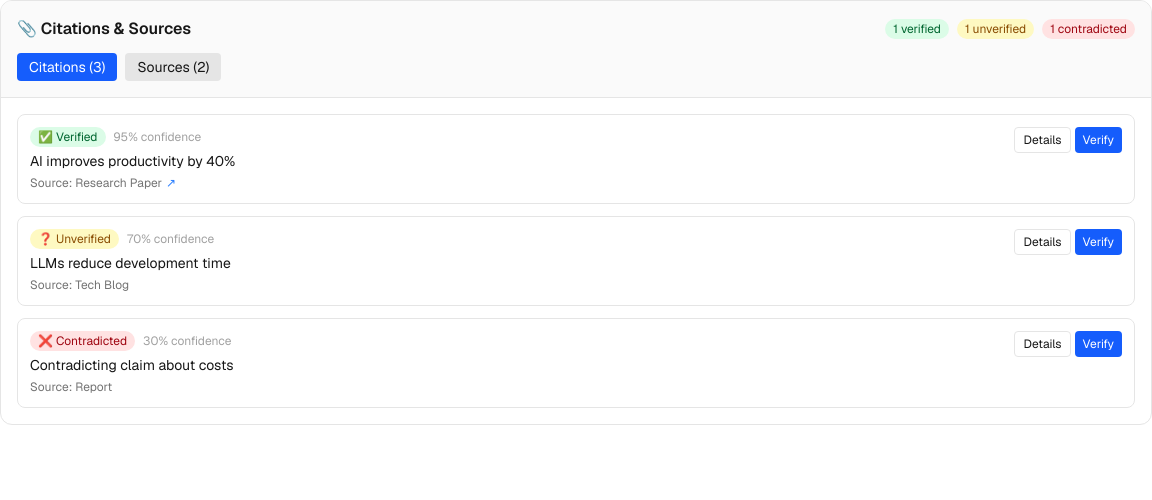
CitationPanel Component › switches to sources tab
Step 1. Click the button "Sources (2)" → (173, 67), box [125, 53, 221, 81]
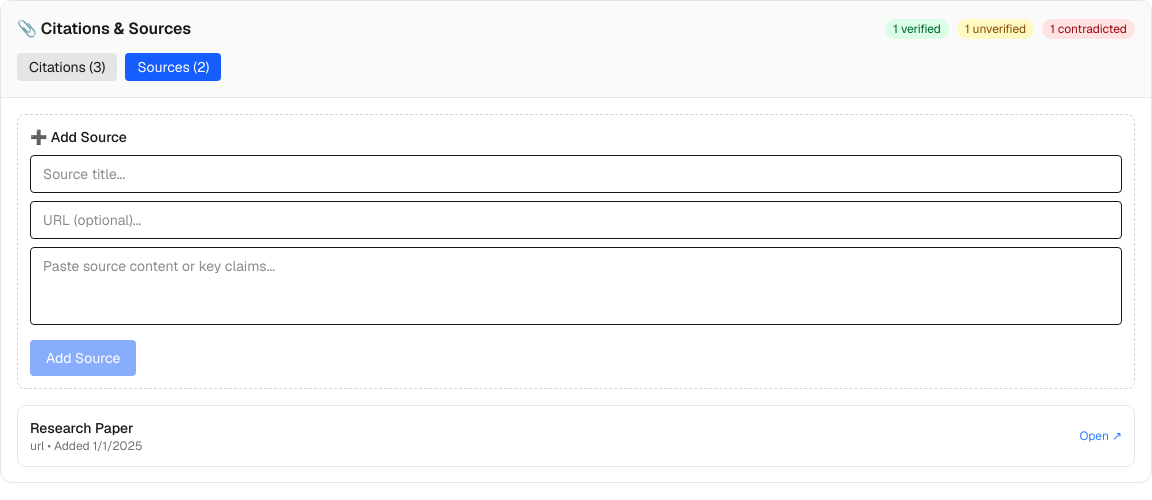
Expected: the text "Research Paper" is shown, [30, 418, 142, 438]
Expected: the heading "➕ Add Source" is shown, [30, 128, 127, 146]
